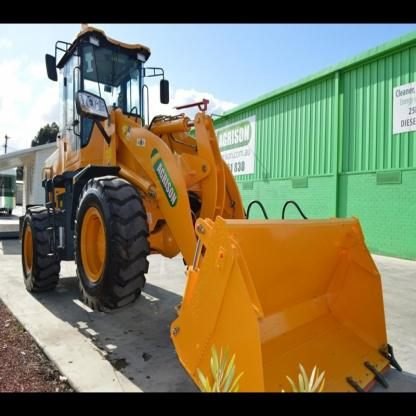bull_dozer/loader/grader: (19, 32, 408, 388)
